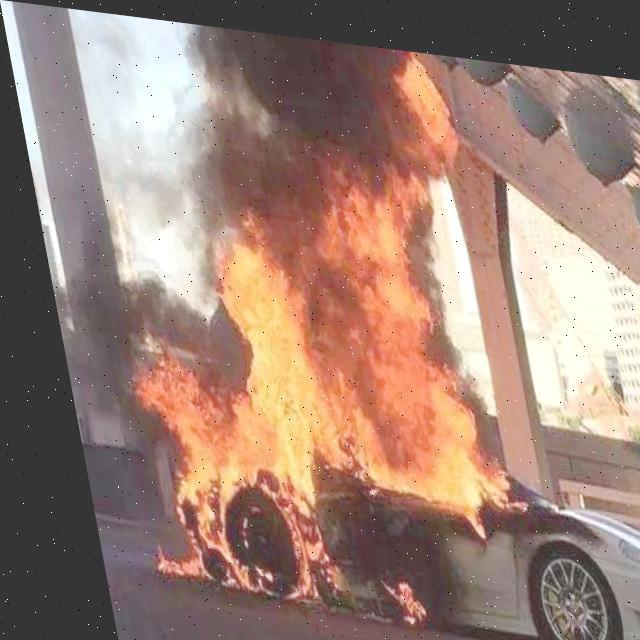Fire: (69, 17, 538, 636)
